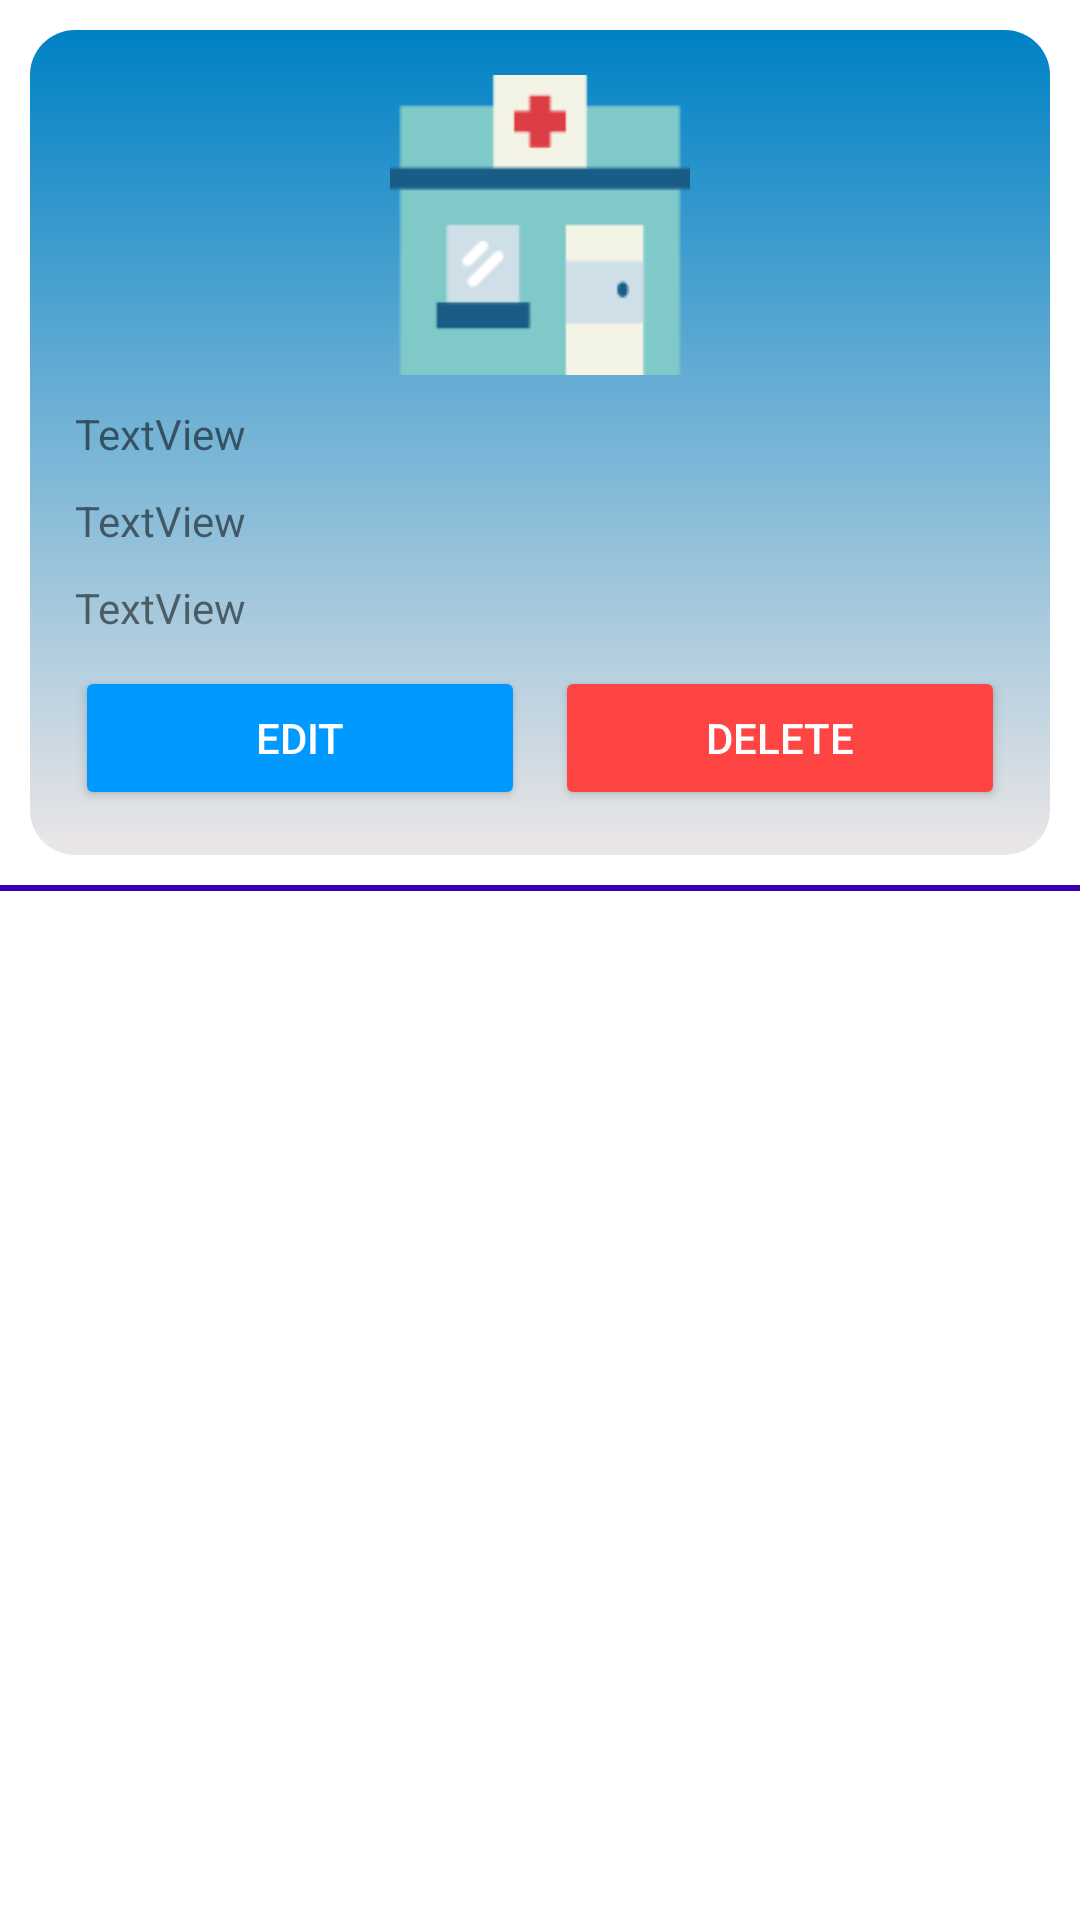

Icons on this 1080 x 1920 Android screen, each with the point to tap as (x,y):
pharmacy: (540,225)
